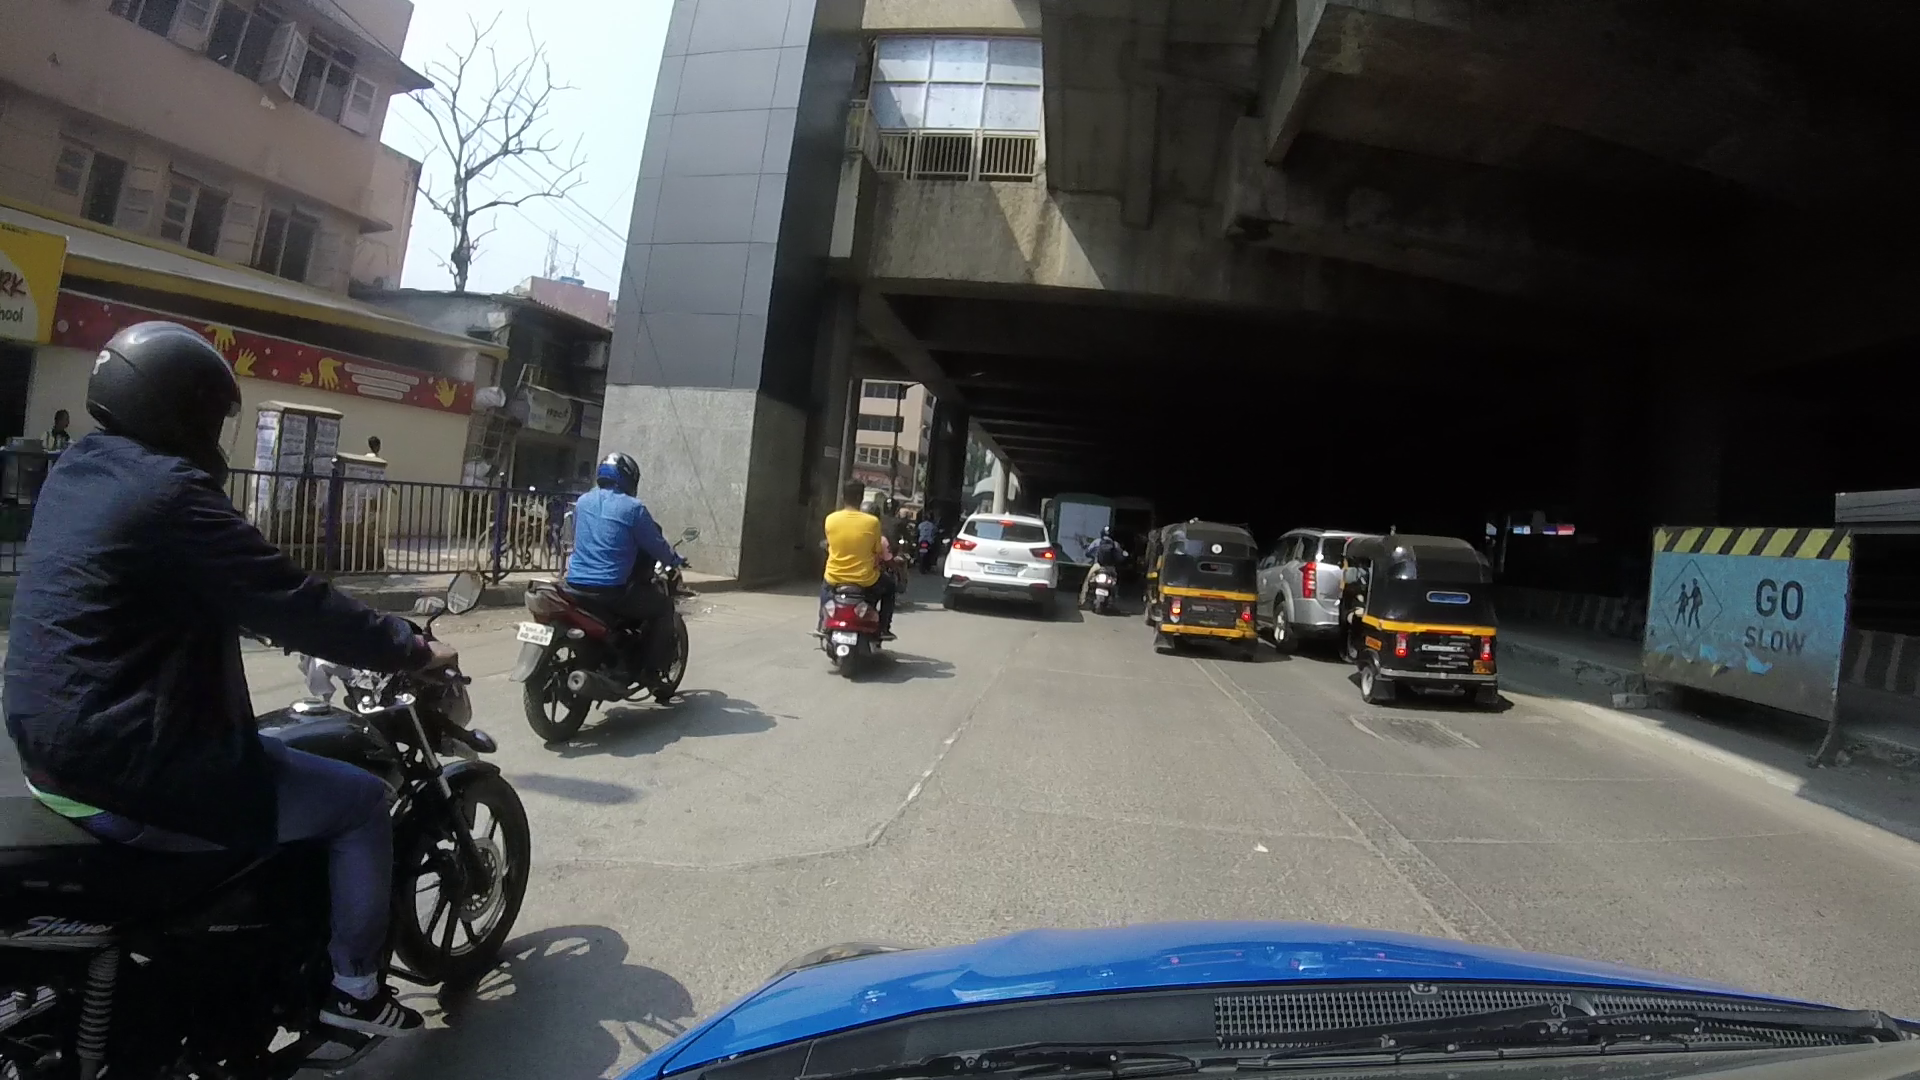bike/scooter: (25, 319, 520, 1072), (520, 454, 687, 742), (804, 489, 890, 676)
car: (1269, 529, 1390, 632), (952, 506, 1062, 607)
rickshaw: (1356, 539, 1509, 704), (1137, 520, 1258, 647)
